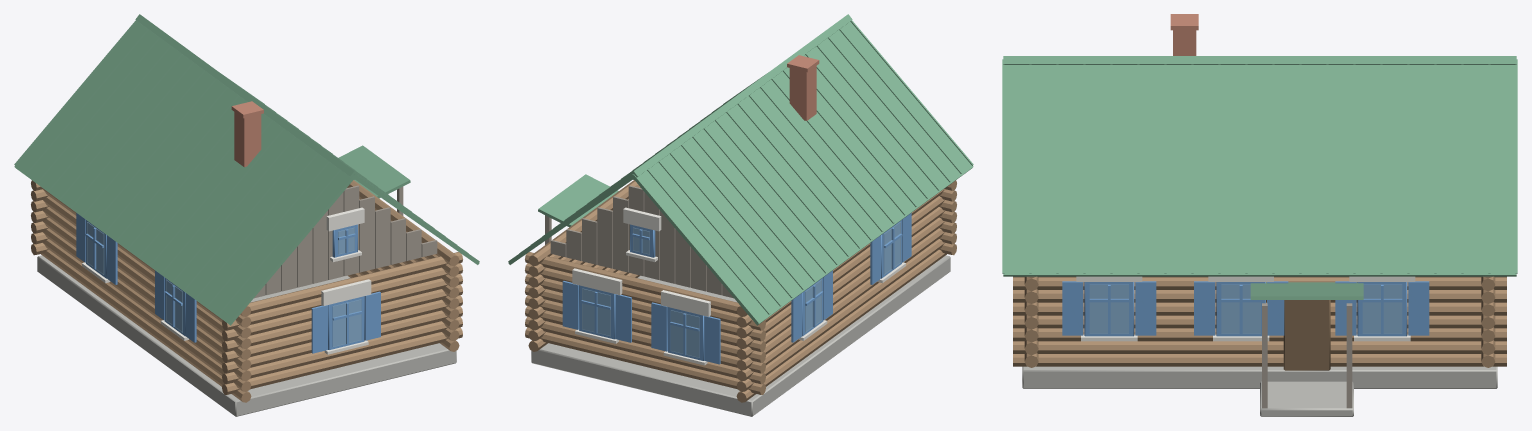
The model's file is Chata_Podlaska_A.fbx.
The picture shows the model from 3 angles, left to right: view 1: azimuth 30°, elevation 25°; view 2: azimuth 150°, elevation 25°; view 3: azimuth 270°, elevation 25°; orthographic projection. The views are drawn at different scales.
Parts seen in each view (by area): view 1: Chata_Podlaska_A; view 2: Chata_Podlaska_A; view 3: Chata_Podlaska_A.
Part boxes in pixels (bbox=[...]): Chata_Podlaska_A: bbox=[14, 14, 479, 416]; Chata_Podlaska_A: bbox=[508, 14, 973, 416]; Chata_Podlaska_A: bbox=[1002, 14, 1517, 416].
Size of the model in its own units: 8.36 by 6.73 by 10.95.
